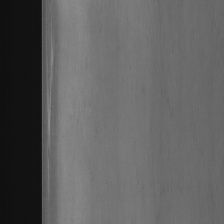silk_spot: (42, 6, 71, 174)
